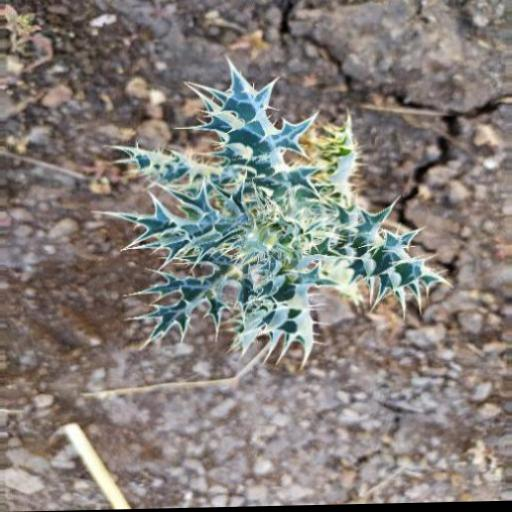crop: (100, 51, 449, 381)
